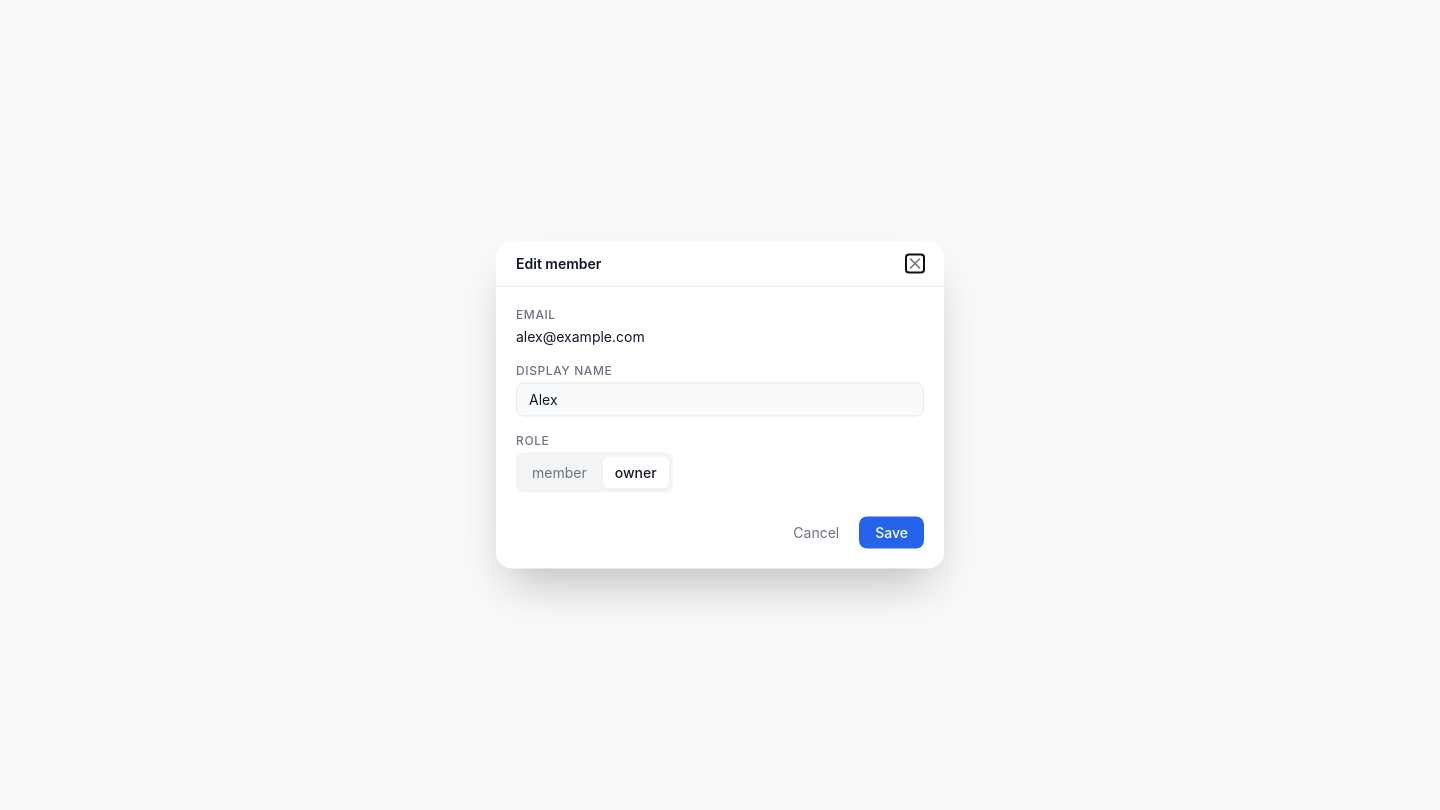
Test case: <EditMemberDialog> › surfaces the PG exception message when the mutation rejects
Click the button "member". click: (559, 472)
box: x1=520 y1=456 x2=599 y2=488
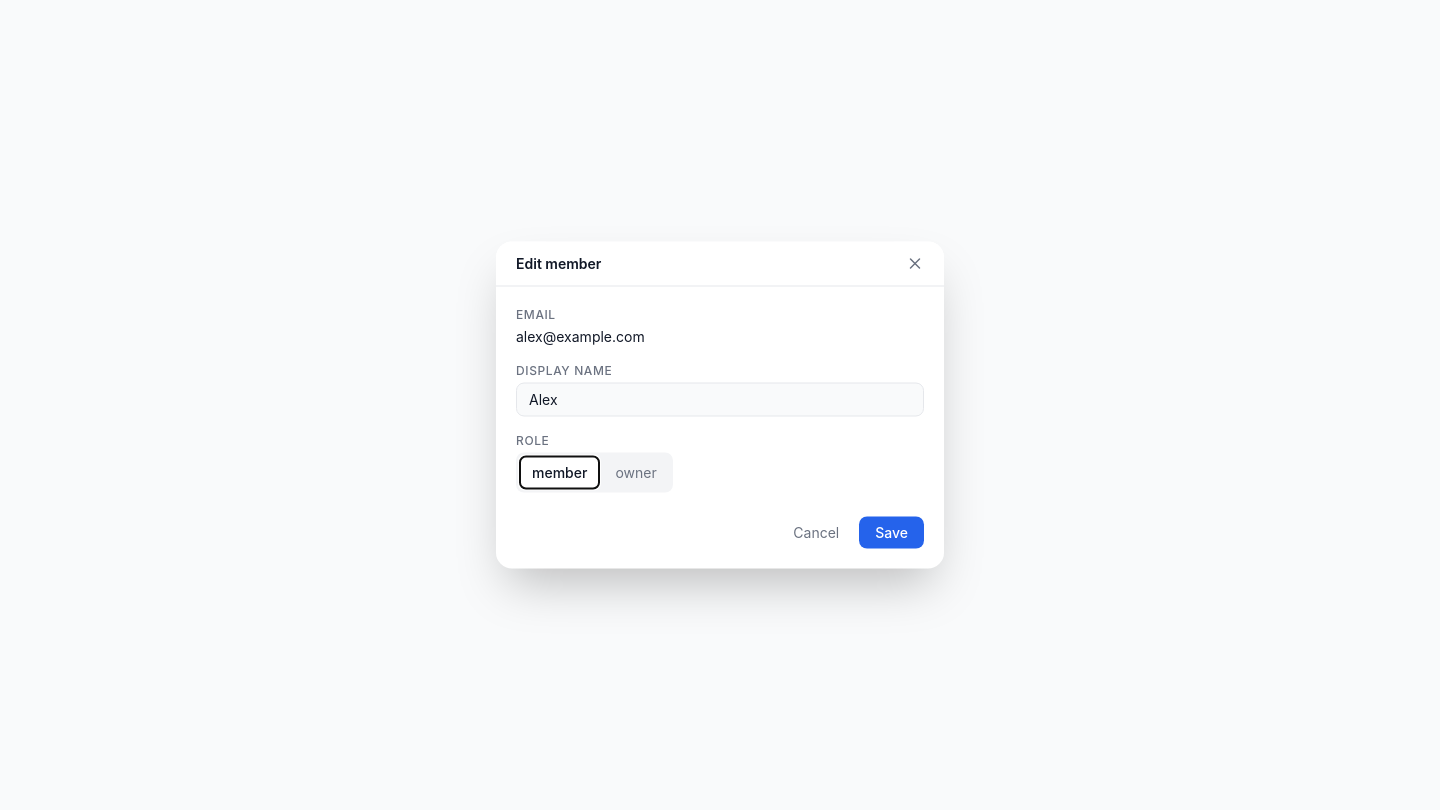
Click the button "Save". click: (892, 532)
box: x1=859 y1=516 x2=924 y2=548
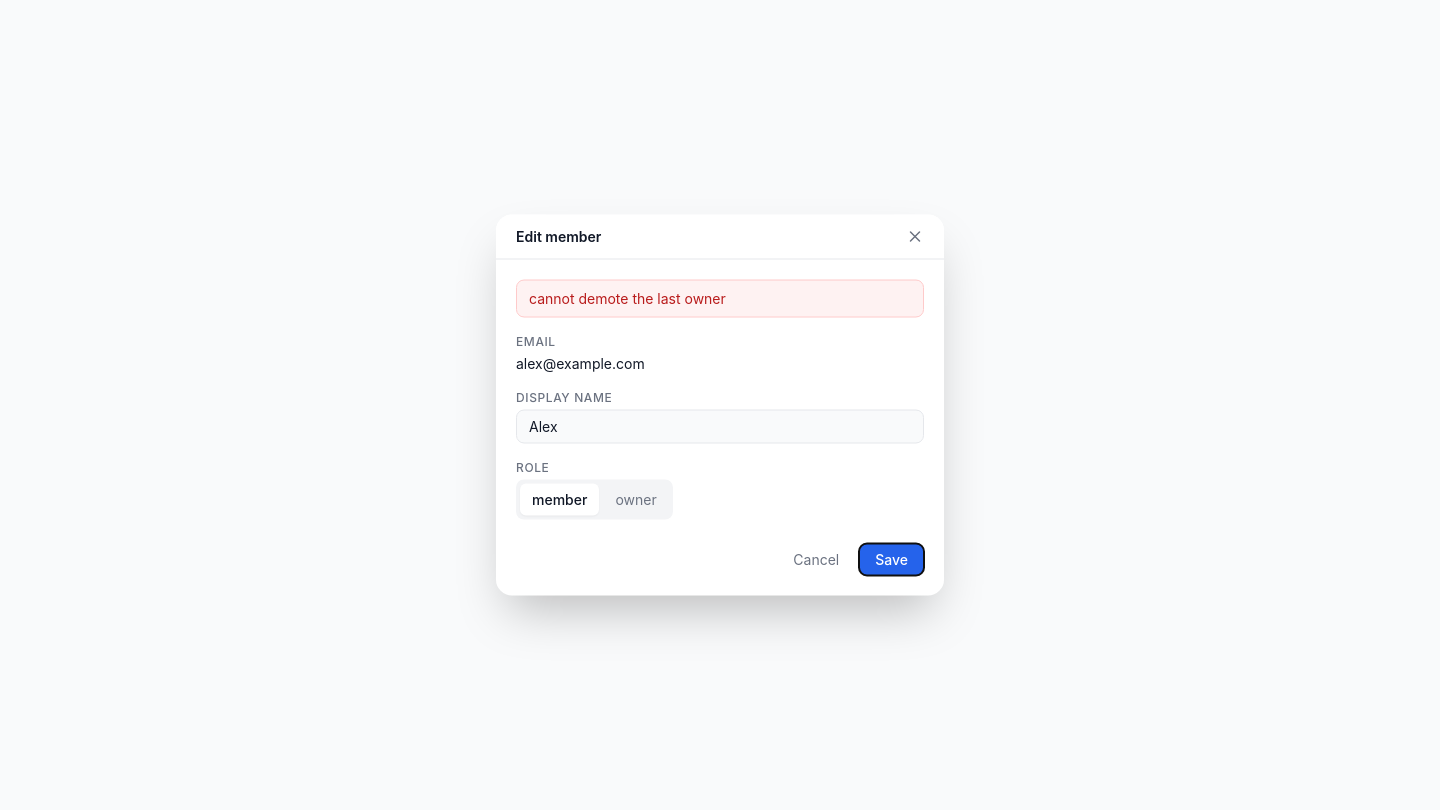
Check: the message reads "cannot demote the last owner", box x1=529 y1=290 x2=726 y2=306
